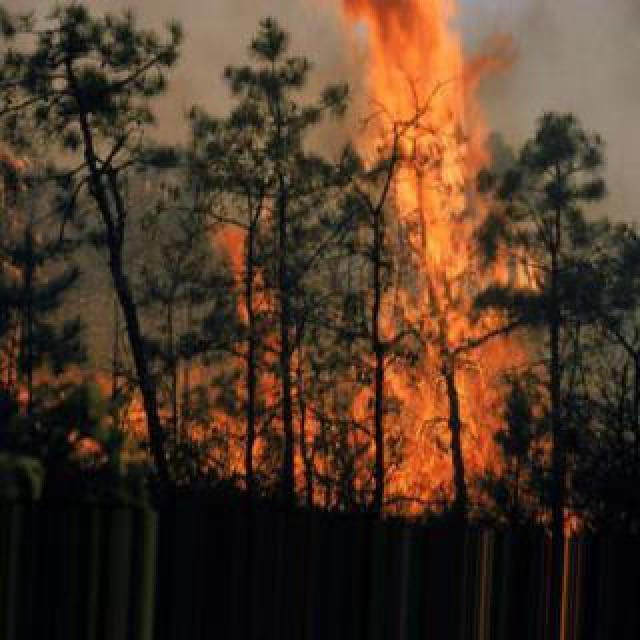Fire: (329, 0, 492, 516)
